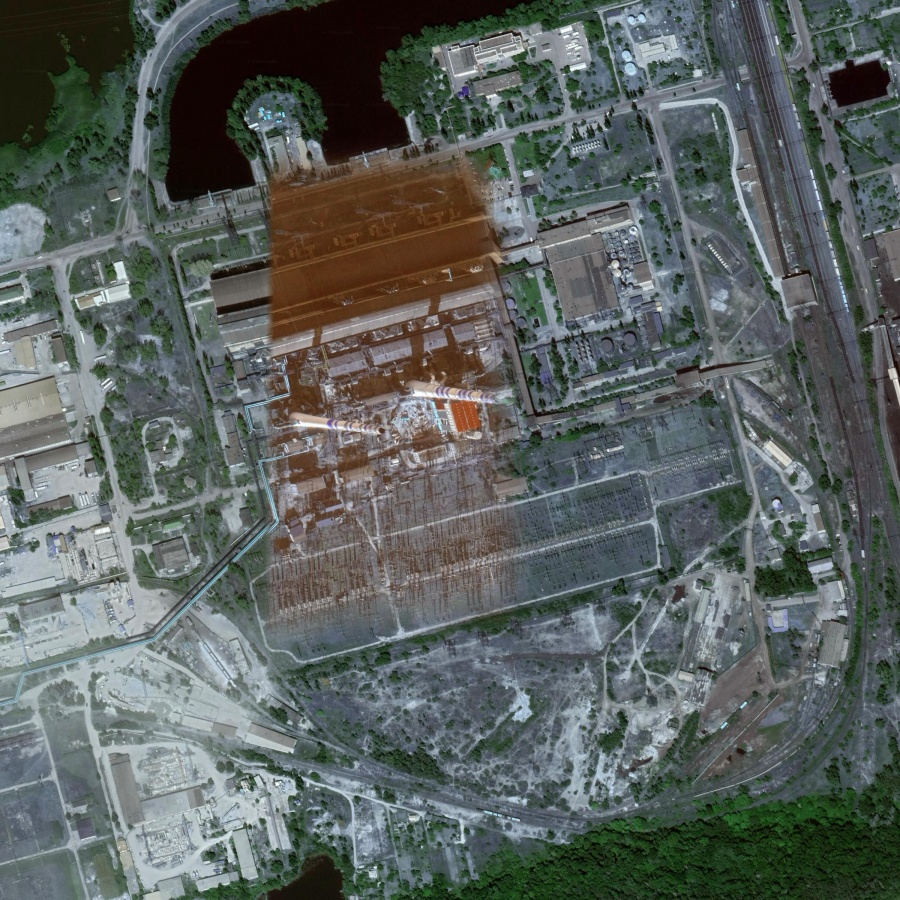PowerPlant: (234, 253, 574, 522)
